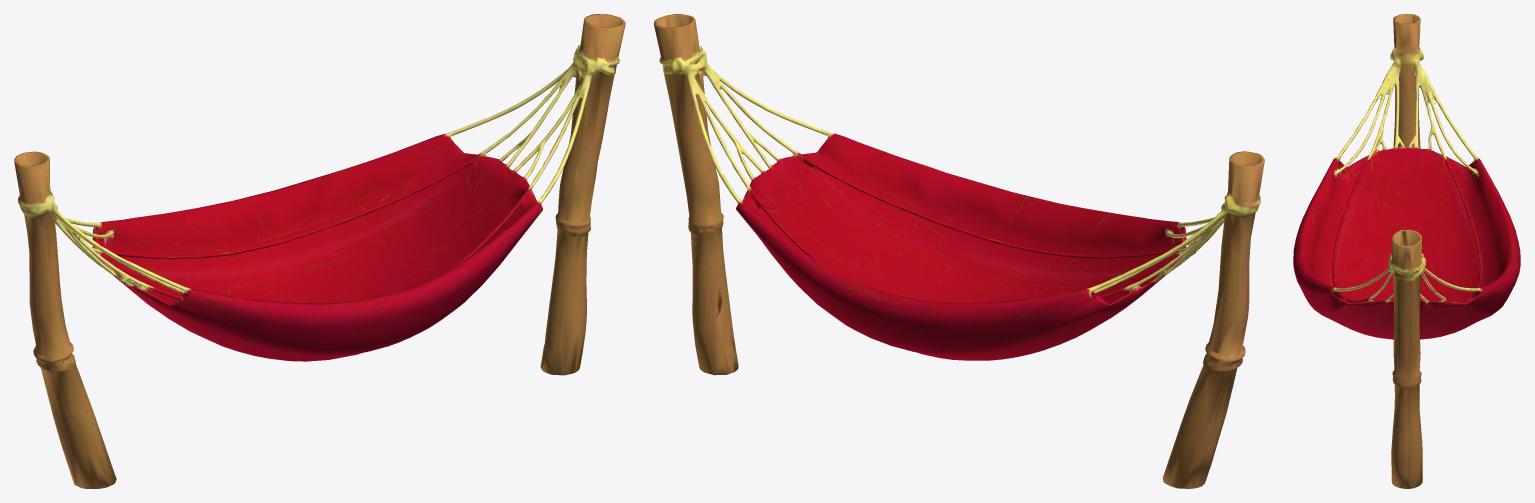
The model's file is hammock.glb.
3 renders of one model, left to right at view 1: azimuth 30°, elevation 25°; view 2: azimuth 150°, elevation 25°; view 3: azimuth 270°, elevation 25°, orthographic. The views are drawn at different scales.
Size of the model in its own units: 1.91 by 1.02 by 0.7969.
Materials: 1 (1 with a texture image).
